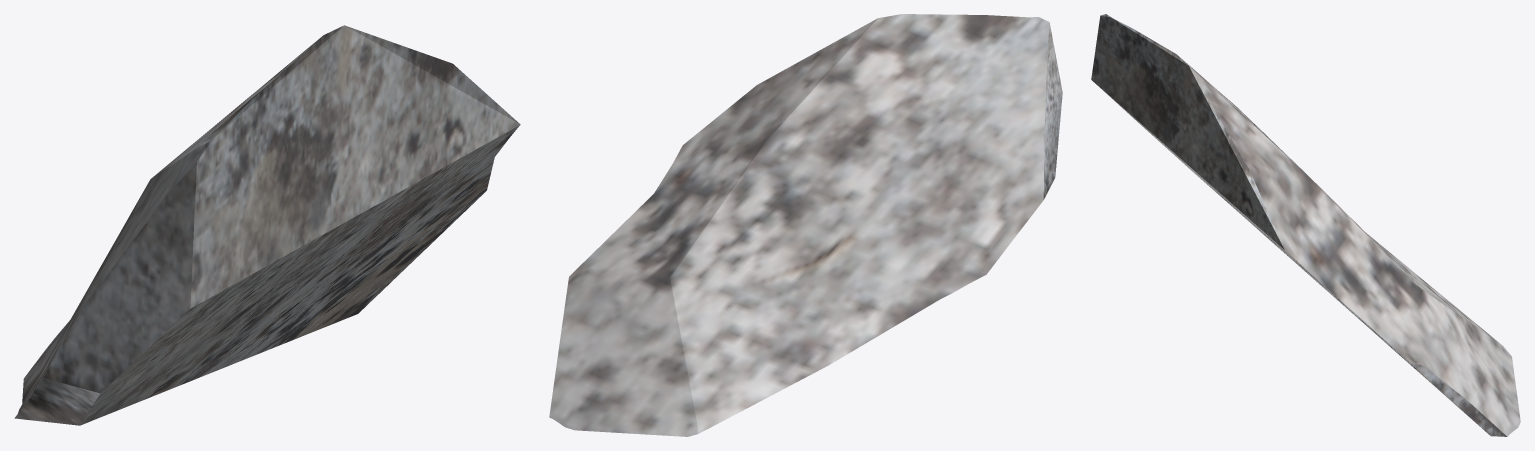
File: Asteroid_Large_001_02_011_03_013.fbx
The picture shows the model from 3 angles, left to right: view 1: azimuth 30°, elevation 25°; view 2: azimuth 150°, elevation 25°; view 3: azimuth 270°, elevation 25°; orthographic projection. The views are drawn at different scales.
Parts seen in each view (by area): view 1: Asteroid_Large_001_02_011_03_013; view 2: Asteroid_Large_001_02_011_03_013; view 3: Asteroid_Large_001_02_011_03_013.
Boxes of the visible parts, x1=… form: Asteroid_Large_001_02_011_03_013: x1=14, y1=25, x2=520, y2=425; Asteroid_Large_001_02_011_03_013: x1=549, y1=14, x2=1062, y2=436; Asteroid_Large_001_02_011_03_013: x1=1091, y1=14, x2=1520, y2=436.
Bounding box in the file's own units: 8.85 × 7.61 × 9.82.
